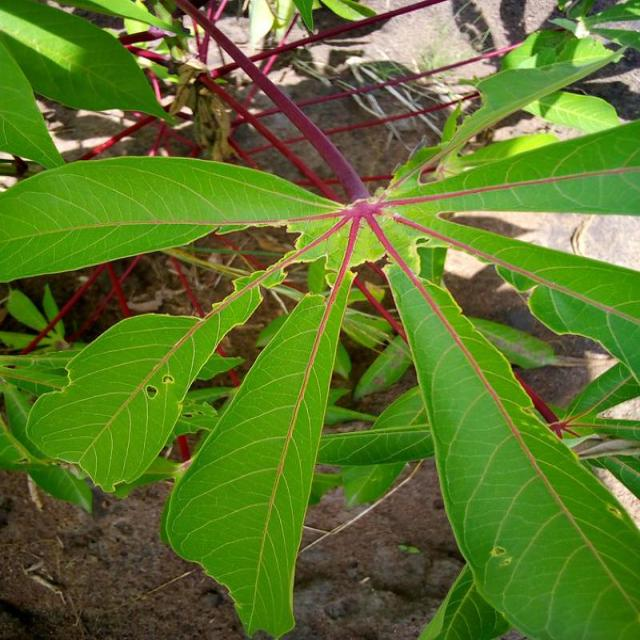cassava leaf: (1, 1, 638, 638), (381, 258, 638, 638), (162, 268, 357, 638), (24, 274, 265, 495), (0, 152, 348, 282)
